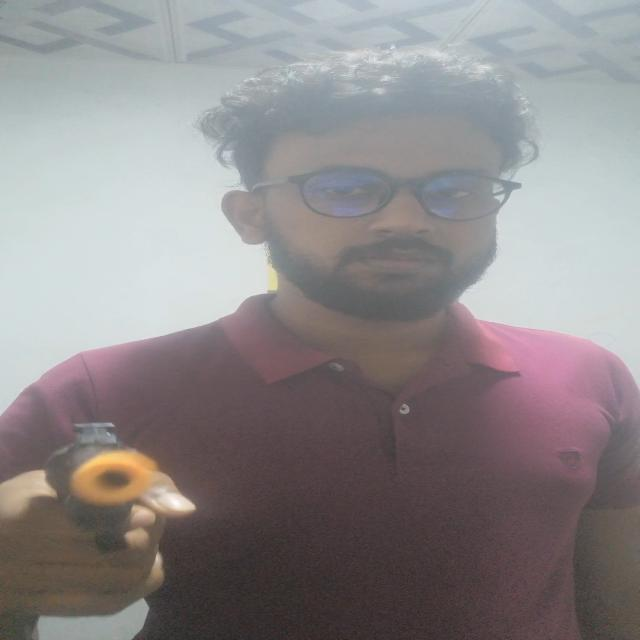Gun_Holder: (0, 421, 236, 605)
Person: (6, 44, 640, 640)
